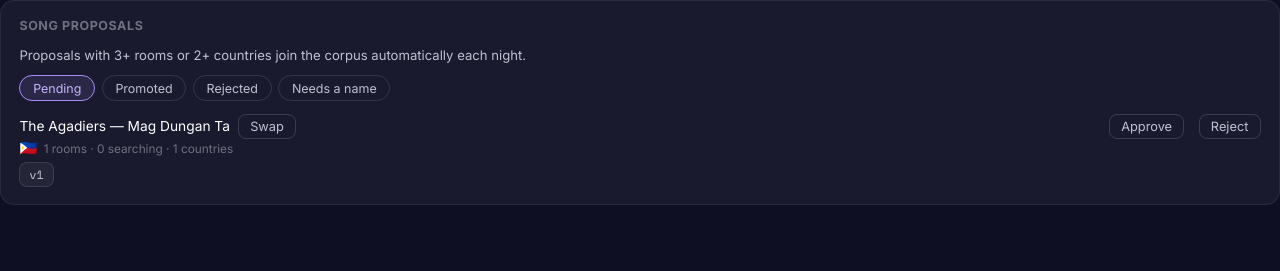
Test: Proposals › keeps a duplicate row and shows where the song already lives, instead of removing it
Click the button "Approve": [1147, 127] box x1=1109 y1=114 x2=1184 y2=139
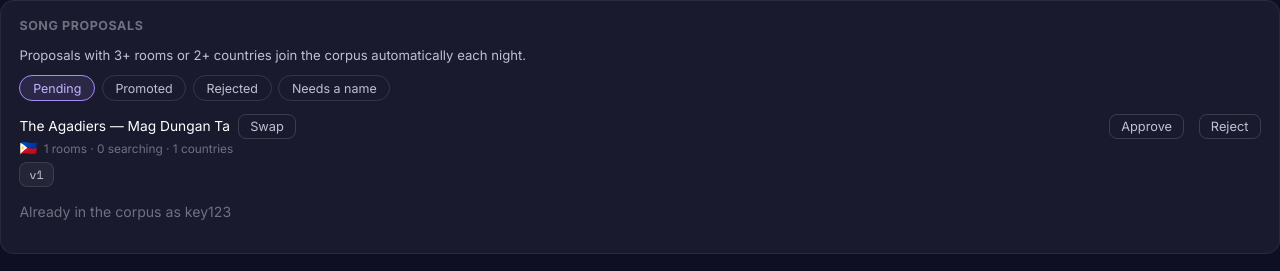
Expected: the text "The Agadiers — Mag Dungan Ta" is shown, x1=19 y1=118 x2=230 y2=134
Now the text "Already in the corpus as key123" is shown, box x1=19 y1=203 x2=231 y2=220
